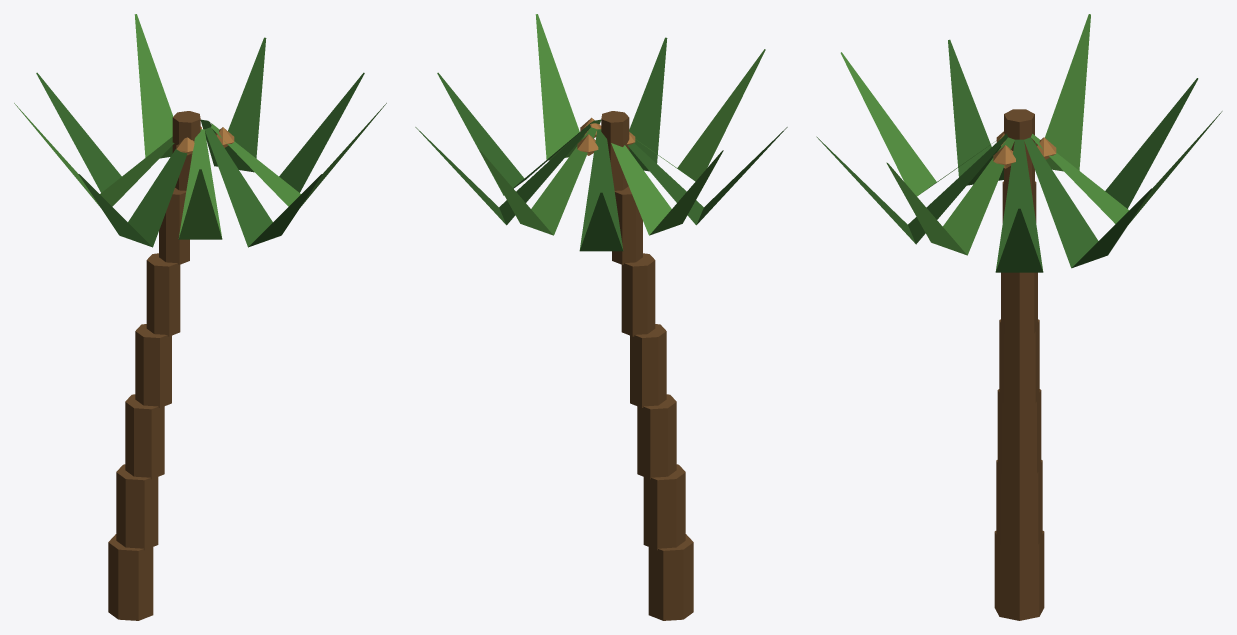
The model's file is env_puno_niyog.obj.
3 renders of one model, left to right at view 1: azimuth 30°, elevation 25°; view 2: azimuth 150°, elevation 25°; view 3: azimuth 270°, elevation 25°, orthographic. The views are drawn at different scales.
Parts seen in each view (by area): view 1: PunoNiyog; view 2: PunoNiyog; view 3: PunoNiyog.
Boxes of the visible parts, box(x1,y1,x2,y2) form: PunoNiyog: box(14, 14, 386, 620); PunoNiyog: box(415, 14, 787, 620); PunoNiyog: box(816, 14, 1222, 620).
Bounding box in the file's own units: 4.23 × 6.43 × 4.3.
